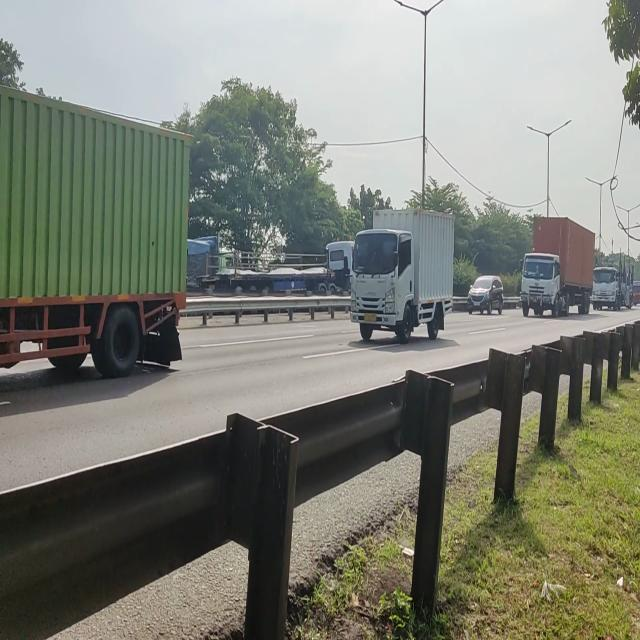Golongan II: (349, 209, 457, 348)
